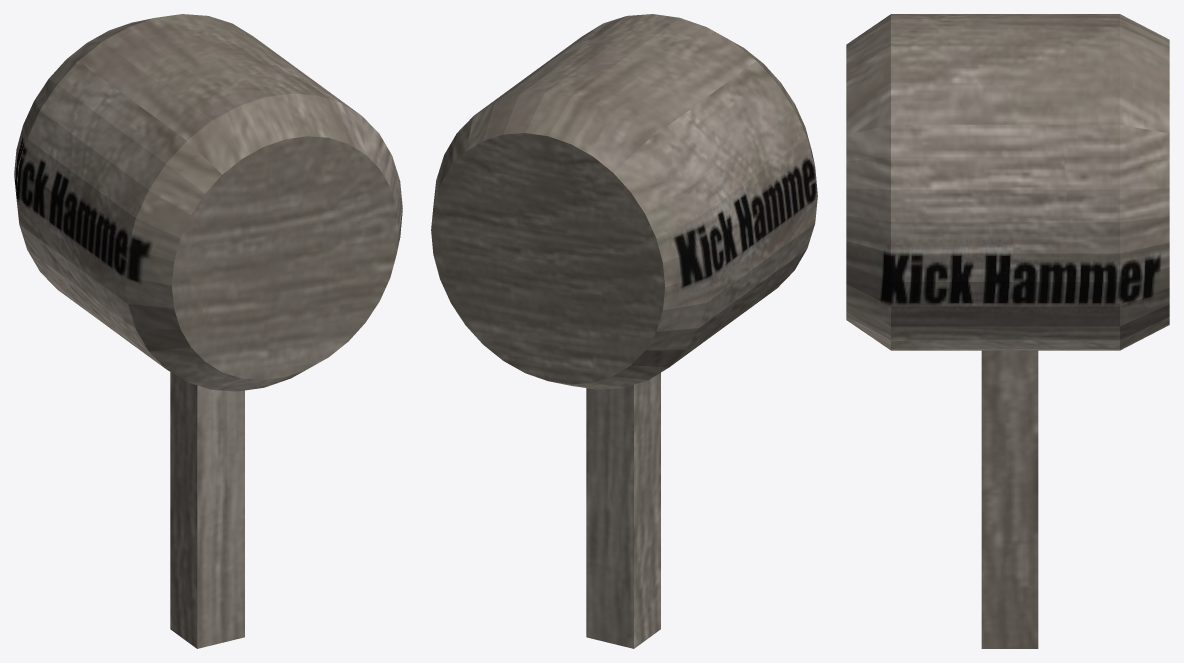
The model's file is hammer.dae.
3 renders of one model, left to right at view 1: azimuth 30°, elevation 25°; view 2: azimuth 150°, elevation 25°; view 3: azimuth 270°, elevation 25°, orthographic. The views are drawn at different scales.
Visible parts, largest first — view 1: Circle; view 2: Circle; view 3: Circle.
Part boxes in pixels (<box>): Circle: <box>14,14,402,648</box>; Circle: <box>431,14,817,648</box>; Circle: <box>846,14,1169,648</box>.
Size of the model in its own units: 0.1835 by 0.1761 by 0.3649.
1 material, 1 textured.
